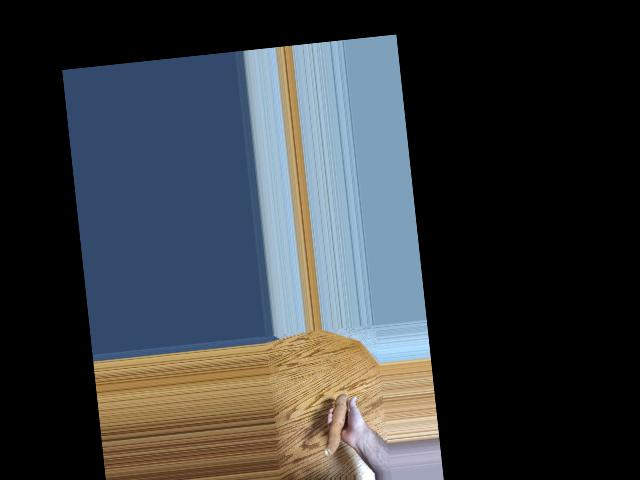sweet_potato: (319, 393, 354, 457)
